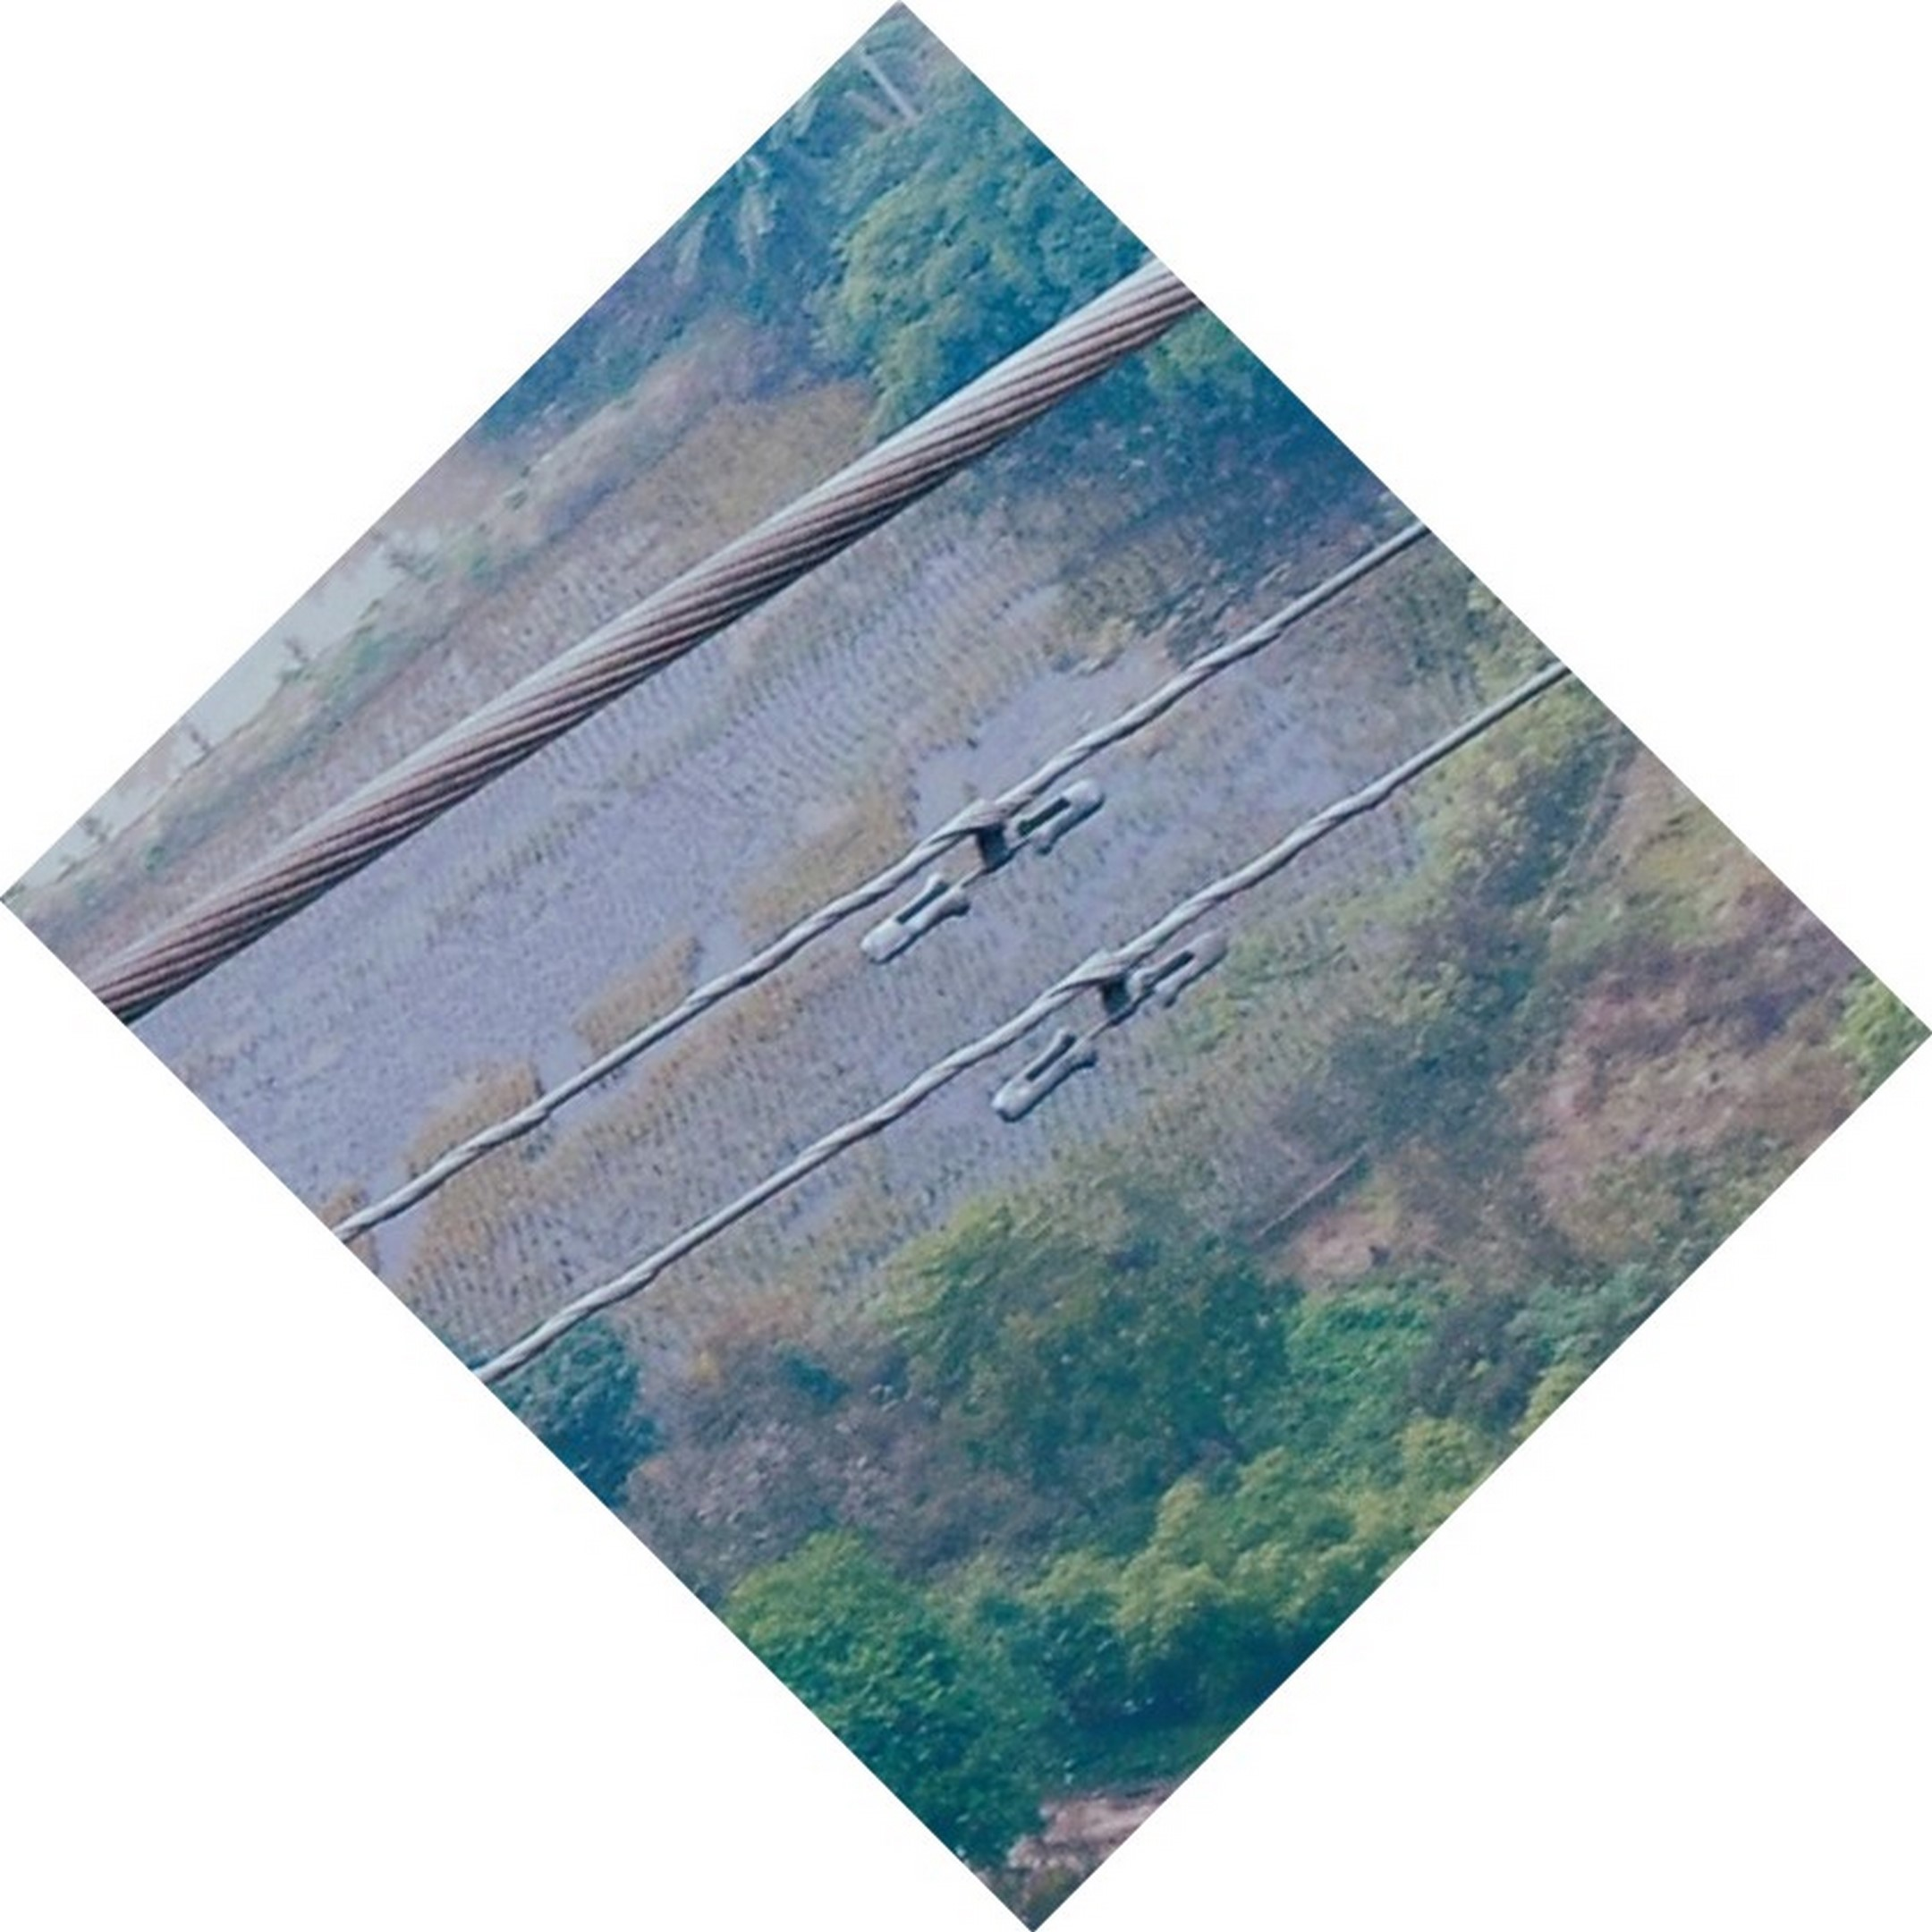Shockproof hammer: (984, 906, 1249, 1159), (840, 763, 1116, 970)
